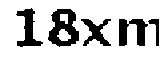1: (14, 4, 44, 51)
8: (48, 6, 80, 52)
m: (114, 14, 160, 50)
x: (81, 16, 113, 48)
